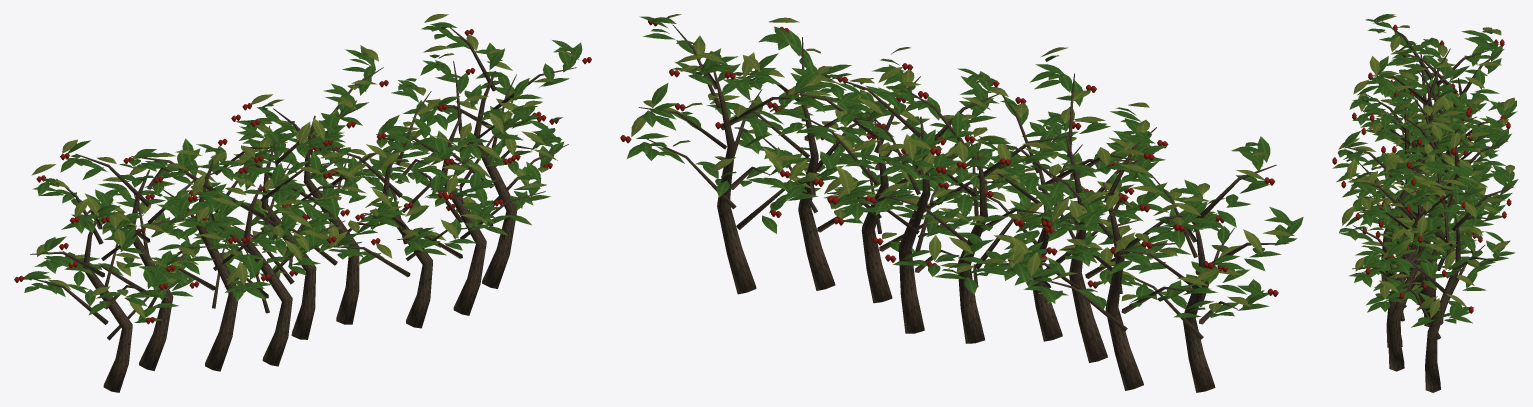
Rendered from frontier_sunmeadow_hawthorn_lod1.glb.
3 renders of one model, left to right at view 1: azimuth 30°, elevation 25°; view 2: azimuth 150°, elevation 25°; view 3: azimuth 270°, elevation 25°, orthographic. The views are drawn at different scales.
Visible parts, largest first — view 1: frontier_sunmeadow_hawthorn_LOD1; view 2: frontier_sunmeadow_hawthorn_LOD1; view 3: frontier_sunmeadow_hawthorn_LOD1.
Boxes of the visible parts, x1,y1,x2,y2 form: frontier_sunmeadow_hawthorn_LOD1: (14,14,591,392); frontier_sunmeadow_hawthorn_LOD1: (620,14,1303,392); frontier_sunmeadow_hawthorn_LOD1: (1332,14,1518,392).
Bounding box in the file's own units: 4.75 × 2.02 × 1.52.
Materials: 2 (2 with a texture image).
